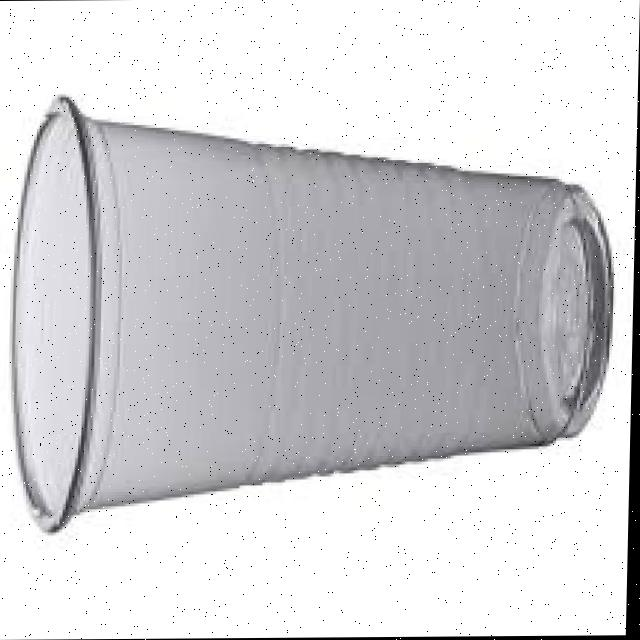cup: (0, 91, 623, 538)
